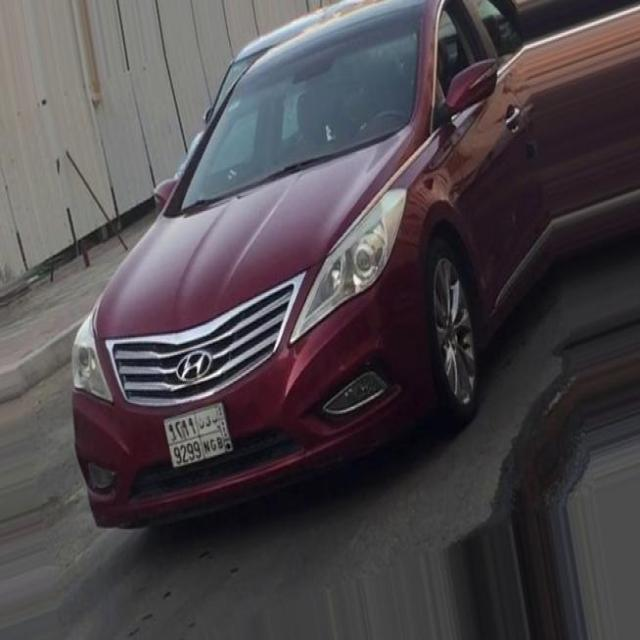Car-plate: (160, 389, 250, 478)
